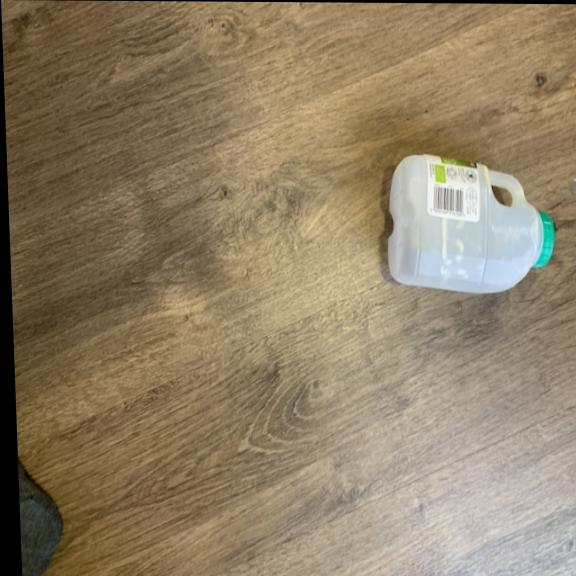Plastik: (377, 155, 559, 298)
